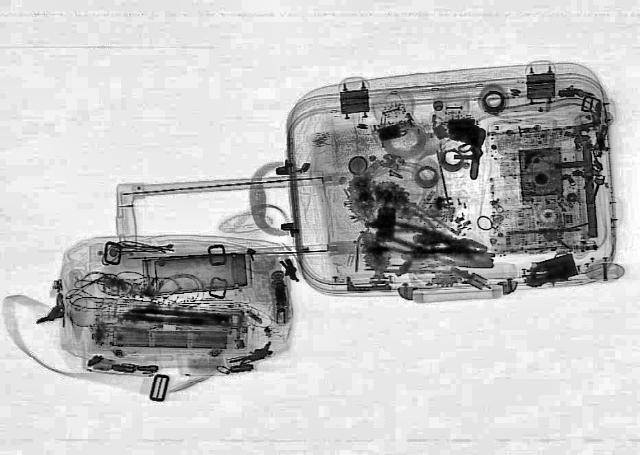Pliers: (368, 218, 492, 268)
